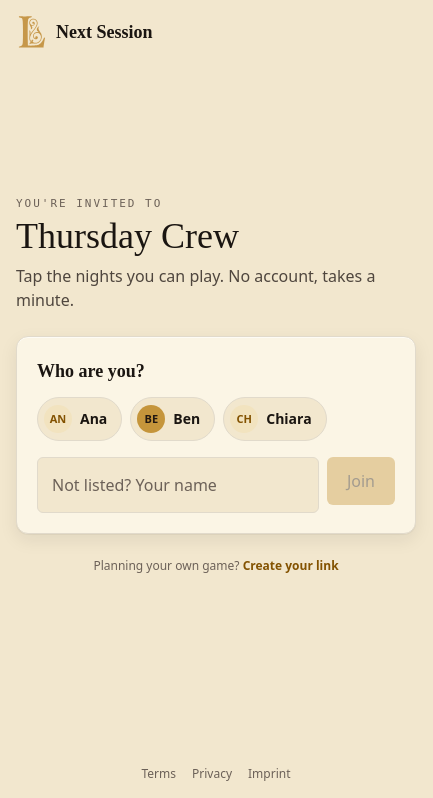
Scenario: Join › highlights the existing chip when the name is taken
Type "ana" into the field labelled "Not listed? Your name" at (178, 485), box [37,457,319,513]
Then press Enter
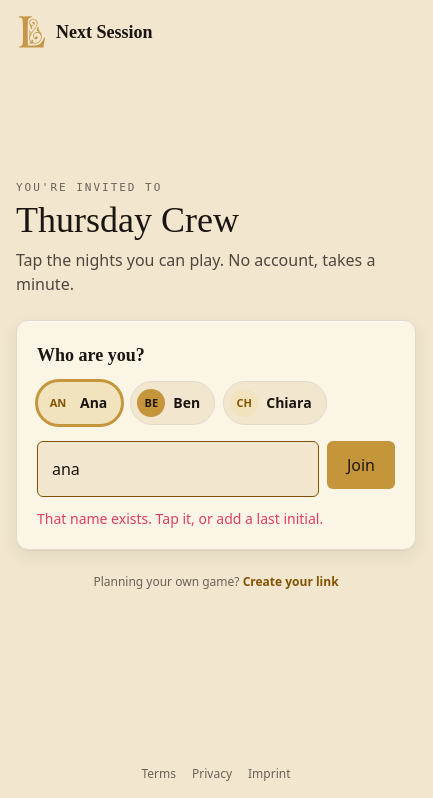
Now the text "That name exists. Tap it, or add a last initial." is shown, box [37,509,323,528]
